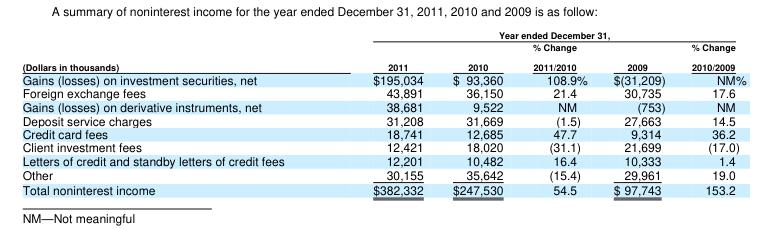table: (21, 28, 745, 197)
table column: (21, 28, 328, 197), (328, 28, 437, 197), (517, 28, 599, 197), (437, 28, 517, 197), (599, 28, 677, 197), (677, 28, 745, 197)
table column header: (21, 28, 745, 71)
table row: (21, 40, 745, 71), (21, 181, 745, 197), (21, 71, 745, 85), (21, 85, 745, 99), (21, 112, 745, 126), (21, 126, 745, 140), (21, 153, 745, 167), (21, 167, 745, 181), (21, 99, 745, 112), (21, 140, 745, 153), (21, 28, 745, 40)
table spanning cell: (21, 28, 328, 71), (328, 28, 745, 40)
